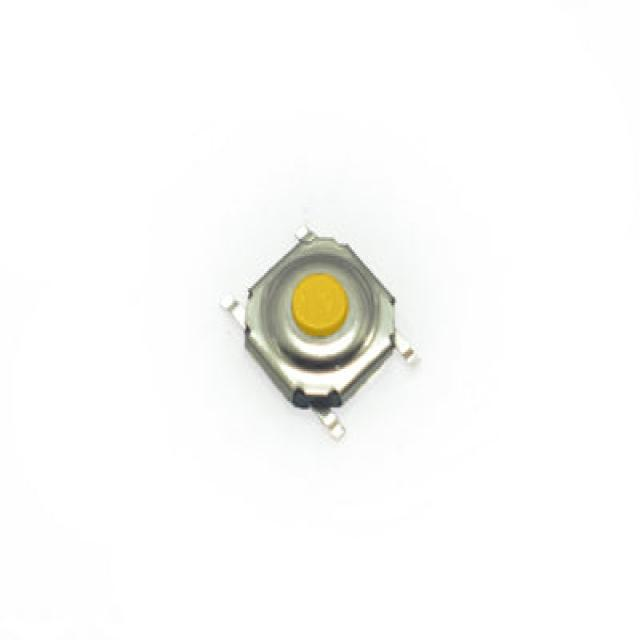Push button: (211, 210, 428, 443)
